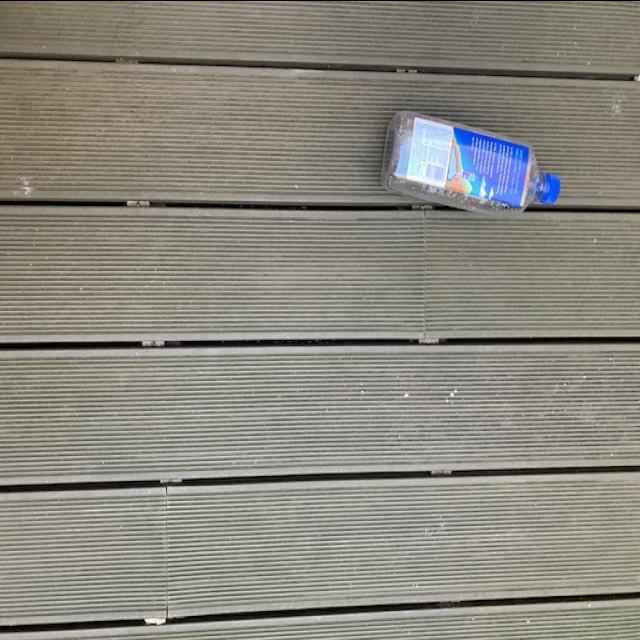PET: (378, 98, 576, 226)
